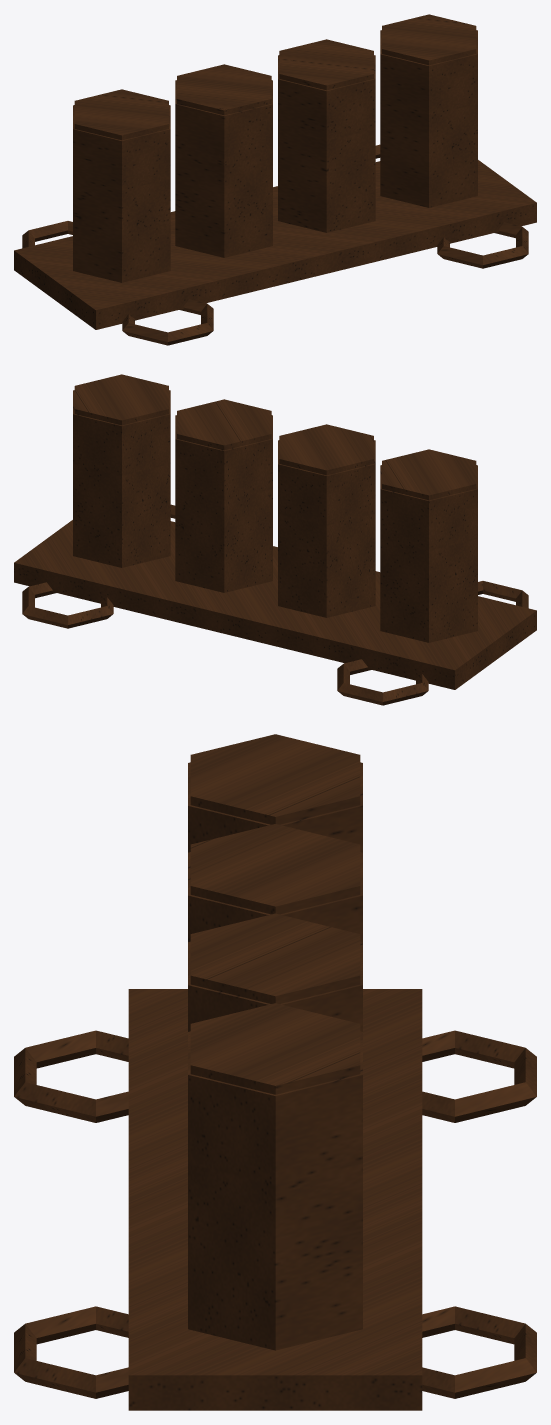
The model's file is PROP-77A6C5843E47_lod2.glb.
3 renders of one model, top to bottom at view 1: azimuth 30°, elevation 25°; view 2: azimuth 150°, elevation 25°; view 3: azimuth 270°, elevation 25°, orthographic. The views are drawn at different scales.
Visible parts, largest first — view 1: barrel_body.004, wagon_deck.001, barrel_lid.004, wagon_wheels.001; view 2: barrel_body.004, wagon_deck.001, barrel_lid.004, wagon_wheels.001; view 3: wagon_deck.001, barrel_body.004, barrel_lid.004, wagon_wheels.001.
Part boxes in pixels (x1,y1,x2,y2): barrel_body.004: (73, 30, 477, 282); wagon_deck.001: (14, 160, 536, 329); barrel_lid.004: (74, 14, 476, 140); wagon_wheels.001: (22, 144, 528, 345); barrel_body.004: (73, 390, 477, 642); wagon_deck.001: (14, 520, 536, 689); barrel_lid.004: (74, 374, 476, 500); wagon_wheels.001: (22, 504, 528, 705); wagon_deck.001: (128, 989, 422, 1410); barrel_body.004: (188, 762, 362, 1350); barrel_lid.004: (190, 734, 360, 1094); wagon_wheels.001: (14, 1030, 536, 1398).
Size of the model in its own units: 2.8 by 1.07 by 1.6.
Materials: 1 (1 with a texture image).
